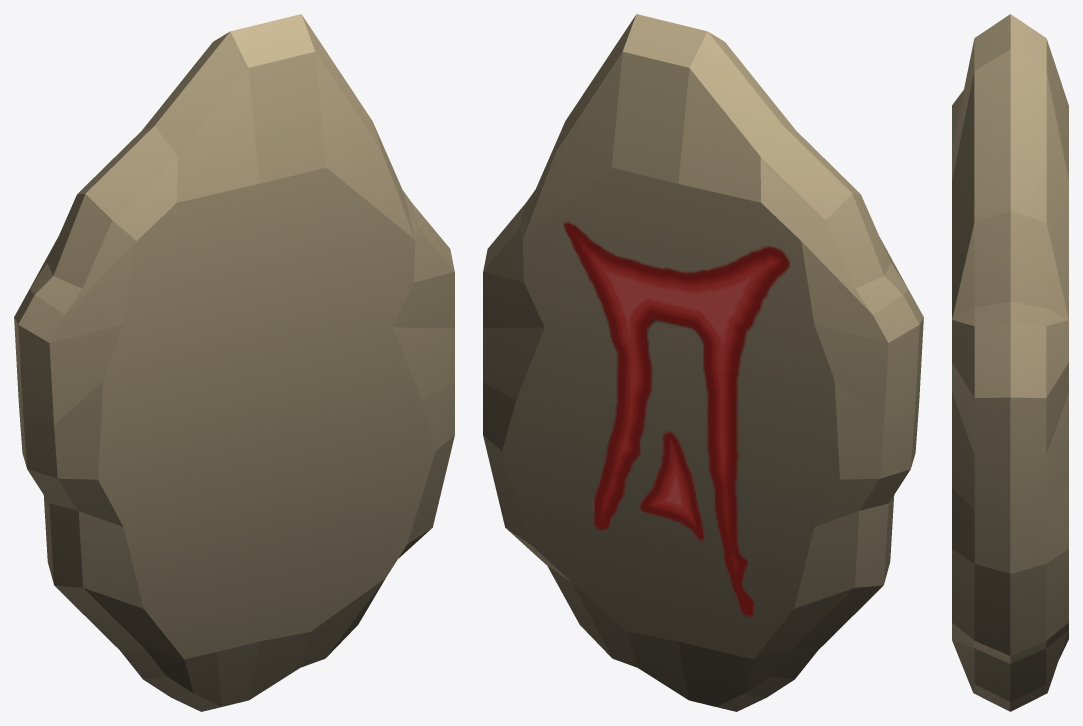
File: rune_model_force.fbx
3 views of the same model, side by side, from view 1: azimuth 30°, elevation 25°; view 2: azimuth 150°, elevation 25°; view 3: azimuth 270°, elevation 25° (orthographic).
Parts seen in each view (by area): view 1: Cube; view 2: Cube; view 3: Cube.
Boxes of the visible parts, <box> form: Cube: <box>14,14,454,711</box>; Cube: <box>483,14,923,711</box>; Cube: <box>952,14,1068,711</box>.
Size of the model in its own units: 42.21 by 62.89 by 9.75.
